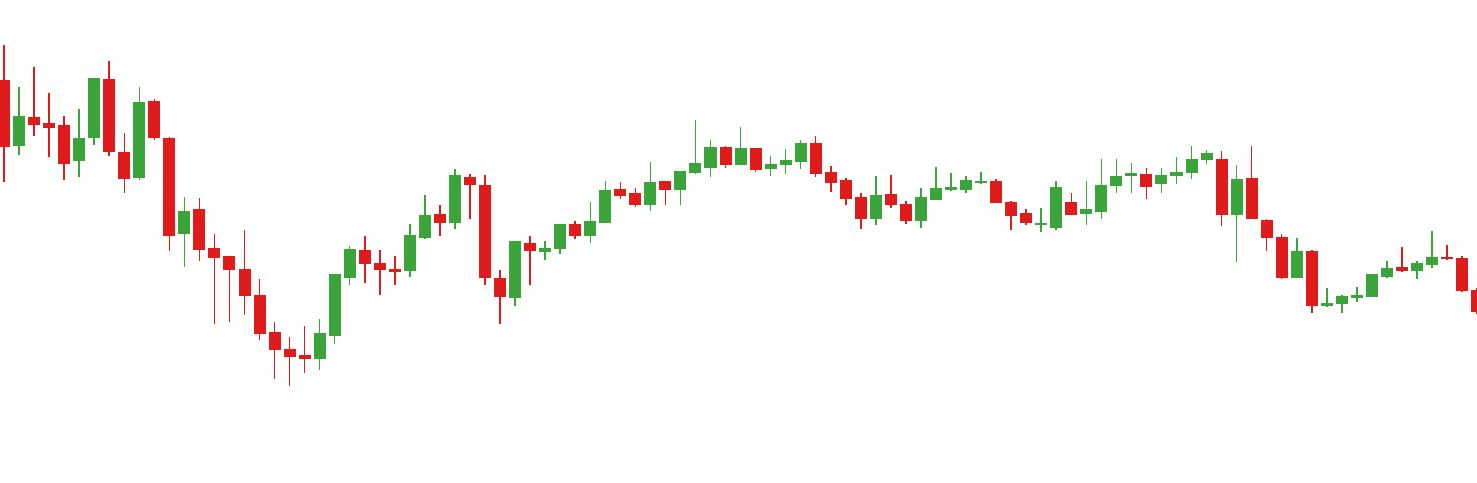buy: (375, 196, 524, 331)
